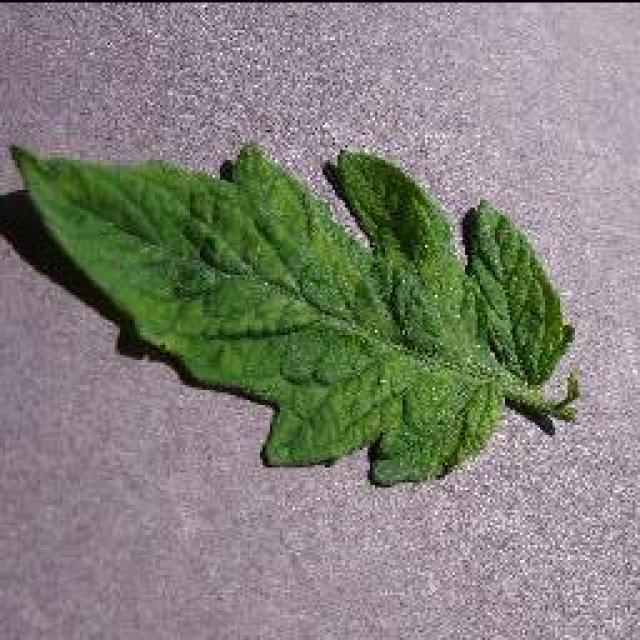Tomato___Tomato_mosaic_virus: (12, 145, 572, 482)
